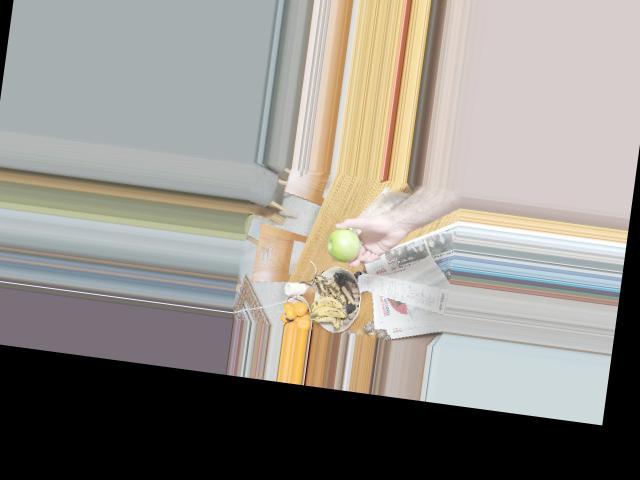apple: (326, 224, 363, 259)
